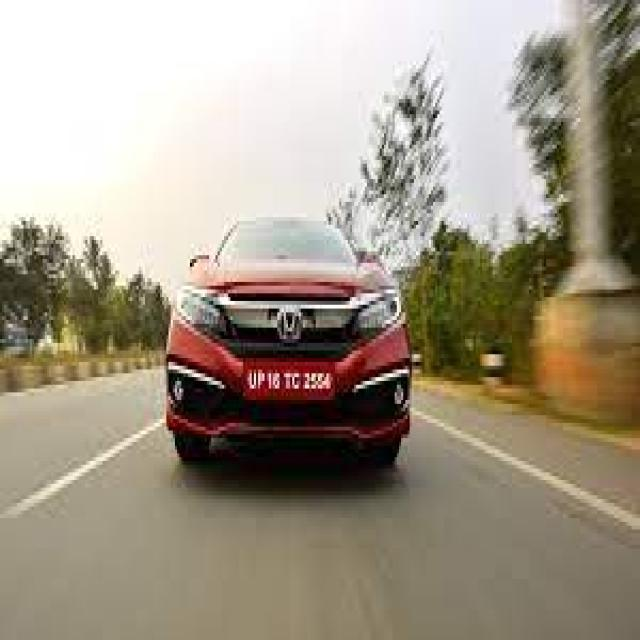Car: (144, 207, 428, 492)
